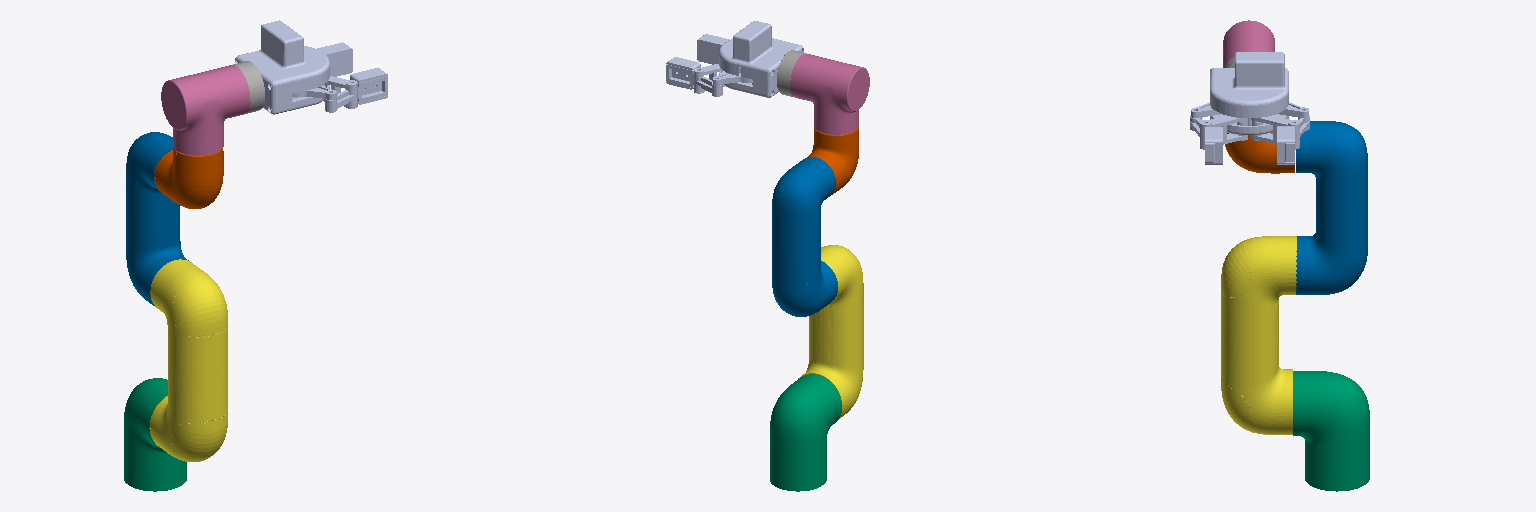
--- What the picture shows (computed from the rendered views, not written in the file) ---
The picture shows the robot from 3 angles, left to right: view 1: azimuth 30°, elevation 25°; view 2: azimuth 150°, elevation 25°; view 3: azimuth 270°, elevation 25°; orthographic projection.
Model mycobot with 25 links and 24 joints (7 revolute, 5 continuous, 12 fixed), rooted at world, posed every joint at zero.
Links seen in each view (by area): view 1: arm2_link, arm3_link, arm5_link, gripper_base_link, arm1_link, arm4_link, right_finger_link, arm5_flange, left_finger_link; view 2: arm3_link, arm1_link, arm2_link, arm5_link, gripper_base_link, arm4_link, left_finger_link, right_finger_link, arm5_flange; view 3: arm2_link, arm3_link, arm1_link, gripper_base_link, arm4_link, arm5_link, left_finger_link, right_finger_link, right_inner_knuckle_link, left_inner_knuckle_link.
Boxes of the visible links, left/top/right/bottom form: arm2_link: left=150, top=259, right=227, bottom=461; arm3_link: left=126, top=132, right=188, bottom=305; arm5_link: left=161, top=65, right=250, bottom=155; gripper_base_link: left=235, top=20, right=329, bottom=114; arm1_link: left=124, top=378, right=186, bottom=491; arm4_link: left=154, top=147, right=223, bottom=208; right_finger_link: left=325, top=68, right=387, bottom=112; arm5_flange: left=233, top=61, right=264, bottom=113; left_finger_link: left=317, top=42, right=352, bottom=76; arm3_link: left=772, top=157, right=837, bottom=316; arm1_link: left=770, top=374, right=841, bottom=491; arm2_link: left=798, top=245, right=863, bottom=419; arm5_link: left=790, top=54, right=869, bottom=134; gripper_base_link: left=719, top=21, right=803, bottom=97; arm4_link: left=808, top=128, right=858, bottom=194; left_finger_link: left=666, top=57, right=722, bottom=96; right_finger_link: left=697, top=34, right=729, bottom=64; arm5_flange: left=777, top=50, right=806, bottom=96; arm2_link: left=1221, top=236, right=1296, bottom=434; arm3_link: left=1296, top=121, right=1367, bottom=294; arm1_link: left=1293, top=371, right=1369, bottom=491; gripper_base_link: left=1210, top=52, right=1288, bottom=134; arm4_link: left=1225, top=132, right=1294, bottom=173; arm5_link: left=1223, top=20, right=1274, bottom=67; left_finger_link: left=1277, top=115, right=1309, bottom=164; right_finger_link: left=1190, top=115, right=1222, bottom=164; right_inner_knuckle_link: left=1200, top=116, right=1247, bottom=149; left_inner_knuckle_link: left=1251, top=115, right=1299, bottom=149.
Size in the robot's own frame: 0.1706 by 0.132 by 0.3796 metres.
Meshes: 15 distinct files referenced, 13 mesh visuals loaded (7 binary STL, 6 Collada DAE); not drawn: 2 (reference not matched to a file when rendering).

robot.urdf — mycobot:
<?xml version="1.0" ?>
<!-- =================================================================================== -->
<!-- |    This document was autogenerated by xacro from [local-path]/simulation_ws/src/mycobot_description/robots/mycobot_with_gripper_camera.urdf.xacro | -->
<!-- |    EDITING THIS FILE BY HAND IS NOT RECOMMENDED                                 | -->
<!-- =================================================================================== -->
<robot name="mycobot">
    <gazebo reference="body_link">
        <mu1>0.5</mu1>
        <mu2>0.5</mu2>
        <kp>100000.0</kp>
        <kd>0</kd>
        <plugin name="gazebo_ros_control">
            <robotNamespace>/</robotNamespace>
        </plugin>
    </gazebo>
    <gazebo reference="arm1_link">
        <mu1>0.5</mu1>
        <mu2>0.5</mu2>
        <kp>100000.0</kp>
        <kd>0</kd>
    </gazebo>
    <gazebo reference="arm2_link">
        <mu1>0.5</mu1>
        <mu2>0.5</mu2>
        <kp>100000.0</kp>
        <kd>0</kd>
    </gazebo>
    <gazebo reference="arm3_link">
        <mu1>0.5</mu1>
        <mu2>0.5</mu2>
        <kp>100000.0</kp>
        <kd>0</kd>
    </gazebo>
    <gazebo reference="arm4_link">
        <mu1>0.5</mu1>
        <mu2>0.5</mu2>
        <kp>100000.0</kp>
        <kd>0</kd>
    </gazebo>
    <gazebo reference="arm5_link">
        <mu1>0.5</mu1>
        <mu2>0.5</mu2>
        <kp>100000.0</kp>
        <kd>0</kd>
    </gazebo>
    <gazebo reference="arm5_flange">
        <mu1>0.5</mu1>
        <mu2>0.5</mu2>
        <kp>100000.0</kp>
        <kd>0</kd>
    </gazebo>
    <transmission name="arm_trans">
        <type>transmission_interface/SimpleTransmission</type>
        <joint name="arm1_joint">
            <hardwareInterface>hardware_interface/PositionJointInterface</hardwareInterface>
        </joint>
        <actuator name="arm_motor">
            <hardwareInterface>hardware_interface/PositionJointInterface</hardwareInterface>
            <mechanicalReduction>1</mechanicalReduction>
        </actuator>
    </transmission>
    <transmission name="arm_trans">
        <type>transmission_interface/SimpleTransmission</type>
        <joint name="arm2_joint">
            <hardwareInterface>hardware_interface/PositionJointInterface</hardwareInterface>
        </joint>
        <actuator name="arm_motor">
            <hardwareInterface>hardware_interface/PositionJointInterface</hardwareInterface>
            <mechanicalReduction>1</mechanicalReduction>
        </actuator>
    </transmission>
    <transmission name="arm_trans">
        <type>transmission_interface/SimpleTransmission</type>
        <joint name="arm3_joint">
            <hardwareInterface>hardware_interface/PositionJointInterface</hardwareInterface>
        </joint>
        <actuator name="arm_motor">
            <hardwareInterface>hardware_interface/PositionJointInterface</hardwareInterface>
            <mechanicalReduction>1</mechanicalReduction>
        </actuator>
    </transmission>
    <transmission name="arm_trans">
        <type>transmission_interface/SimpleTransmission</type>
        <joint name="arm4_joint">
            <hardwareInterface>hardware_interface/PositionJointInterface</hardwareInterface>
        </joint>
        <actuator name="arm_motor">
            <hardwareInterface>hardware_interface/PositionJointInterface</hardwareInterface>
            <mechanicalReduction>1</mechanicalReduction>
        </actuator>
    </transmission>
    <transmission name="arm_trans">
        <type>transmission_interface/SimpleTransmission</type>
        <joint name="arm5_joint">
            <hardwareInterface>hardware_interface/PositionJointInterface</hardwareInterface>
        </joint>
        <actuator name="arm_motor">
            <hardwareInterface>hardware_interface/PositionJointInterface</hardwareInterface>
            <mechanicalReduction>1</mechanicalReduction>
        </actuator>
    </transmission>
    <transmission name="arm_trans">
        <type>transmission_interface/SimpleTransmission</type>
        <joint name="arm5_flange_joint">
            <hardwareInterface>hardware_interface/PositionJointInterface</hardwareInterface>
        </joint>
        <actuator name="arm_motor">
            <hardwareInterface>hardware_interface/PositionJointInterface</hardwareInterface>
            <mechanicalReduction>1</mechanicalReduction>
        </actuator>
    </transmission>
    <gazebo>
        <plugin filename="libroboticsgroup_gazebo_mimic_joint_plugin.so" name="left_inner_base_knuckle_jointmimic_joint_plugin">
            <joint>left_outer_base_knuckle_joint</joint>
            <mimicJoint>left_inner_base_knuckle_joint</mimicJoint>
            <!-- if set to true, PID parameters from "/gazebo_ros_control/pid_gains/${mimic_joint}" are loaded -->
            <hasPID />
            <multiplier>1.0</multiplier>
            <offset>0</offset>
            <sensitiveness>0.0</sensitiveness>
            <!-- if absolute difference between setpoint and process value is below this threshold, do nothing; 0.0 = disable [rad] -->
            <maxEffort>10.0</maxEffort>
        </plugin>
    </gazebo>
    <gazebo>
        <plugin filename="libroboticsgroup_gazebo_mimic_joint_plugin.so" name="left_inner_knuckle_finger_jointmimic_joint_plugin">
            <joint>left_outer_base_knuckle_joint</joint>
            <mimicJoint>left_inner_knuckle_finger_joint</mimicJoint>
            <!-- if set to true, PID parameters from "/gazebo_ros_control/pid_gains/${mimic_joint}" are loaded -->
            <hasPID />
            <multiplier>-1.0</multiplier>
            <offset>0</offset>
            <sensitiveness>0.0</sensitiveness>
            <!-- if absolute difference between setpoint and process value is below this threshold, do nothing; 0.0 = disable [rad] -->
            <maxEffort>10.0</maxEffort>
        </plugin>
    </gazebo>
    <gazebo>
        <plugin filename="libroboticsgroup_gazebo_mimic_joint_plugin.so" name="right_inner_base_knuckle_jointmimic_joint_plugin">
            <joint>left_outer_base_knuckle_joint</joint>
            <mimicJoint>right_inner_base_knuckle_joint</mimicJoint>
            <!-- if set to true, PID parameters from "/gazebo_ros_control/pid_gains/${mimic_joint}" are loaded -->
            <hasPID />
            <multiplier>-1.0</multiplier>
            <offset>0</offset>
            <sensitiveness>0.0</sensitiveness>
            <!-- if absolute difference between setpoint and process value is below this threshold, do nothing; 0.0 = disable [rad] -->
            <maxEffort>10.0</maxEffort>
        </plugin>
    </gazebo>
    <gazebo>
        <plugin filename="libroboticsgroup_gazebo_mimic_joint_plugin.so" name="right_inner_knuckle_finger_jointmimic_joint_plugin">
            <joint>left_outer_base_knuckle_joint</joint>
            <mimicJoint>right_inner_knuckle_finger_joint</mimicJoint>
            <!-- if set to true, PID parameters from "/gazebo_ros_control/pid_gains/${mimic_joint}" are loaded -->
            <hasPID />
            <multiplier>1.0</multiplier>
            <offset>0</offset>
            <sensitiveness>0.0</sensitiveness>
            <!-- if absolute difference between setpoint and process value is below this threshold, do nothing; 0.0 = disable [rad] -->
            <maxEffort>10.0</maxEffort>
        </plugin>
    </gazebo>
    <gazebo>
        <plugin filename="libroboticsgroup_gazebo_mimic_joint_plugin.so" name="right_outer_base_knuckle_jointmimic_joint_plugin">
            <joint>left_outer_base_knuckle_joint</joint>
            <mimicJoint>right_outer_base_knuckle_joint</mimicJoint>
            <!-- if set to true, PID parameters from "/gazebo_ros_control/pid_gains/${mimic_joint}" are loaded -->
            <hasPID />
            <multiplier>-1.0</multiplier>
            <offset>0</offset>
            <sensitiveness>0.0</sensitiveness>
            <!-- if absolute difference between setpoint and process value is below this threshold, do nothing; 0.0 = disable [rad] -->
            <maxEffort>10.0</maxEffort>
        </plugin>
    </gazebo>
    <transmission name="gripper_trans">
        <type>transmission_interface/SimpleTransmission</type>
        <joint name="left_outer_base_knuckle_joint">
            <hardwareInterface>hardware_interface/PositionJointInterface</hardwareInterface>
        </joint>
        <actuator name="gripper_motor">
            <hardwareInterface>hardware_interface/PositionJointInterface</hardwareInterface>
            <mechanicalReduction>1</mechanicalReduction>
        </actuator>
    </transmission>
    <gazebo>
        <plugin filename="libgazebo_ros_control.so" name="gazebo_ros_control">
            <robotNamespace>/mycobot</robotNamespace>
        </plugin>
    </gazebo>
    <!-- Now we can start using the macros included above to define the actual Mycobot -->
    <link name="world" />
    <joint name="body_joint" type="fixed">
        <origin rpy="0 0 0" xyz="0 0 0.95" />
        <!-- transform from parent link to this joint frame -->
        <parent link="world" />
        <child link="body_link" />
    </joint>
    <!-- defining the links-->
    <link name="body_link">
        <visual>
            <geometry>
                <mesh filename="package://mycobot_description/meshes/arm/body_link.dae" />
            </geometry>
            <origin rpy=" 0 0 0" xyz="0.0 0 0 " />
        </visual>
        <collision>
            <geometry>
                <mesh filename="package://mycobot_description/meshes/arm/body_link.dae" />
            </geometry>
            <origin rpy=" 0 0 0" xyz="0.0 0 1e-5" />
        </collision>
        <inertial>
            <origin rpy="0 0 0" xyz="0.0112 0 0.03742" />
            <mass value="0.35" />
            <inertia ixx="3.82e-4" ixy="-1.628e-9" ixz="3.25e-6" iyy="5.09e-4" iyz="-1.66e-9" izz="5.38e-4" />
        </inertial>
    </link>
    <link name="arm1_link">
        <visual>
            <geometry>
                <mesh filename="package://mycobot_description/meshes/arm/arm1_link.dae" />
            </geometry>
            <origin rpy=" 0 0 -1.5708" xyz="0.0 0 -0.06096 " />
        </visual>
        <collision>
            <geometry>
                <mesh filename="package://mycobot_description/meshes/arm/arm1_link.dae" />
            </geometry>
            <origin rpy=" 0 0 -1.5708" xyz="0.0 0 -0.06096 " />
        </collision>
        <inertial>
            <origin rpy="0 0 -1.5708" xyz="0 -0.006642 -0.02617" />
            <mass value="0.075" />
            <inertia ixx="5e-5" ixy="0" ixz="0" iyy="5e-5" iyz="0" izz="3e-5" />
        </inertial>
    </link>
    <link name="arm2_link">
        <visual>
            <geometry>
                <mesh filename="package://mycobot_description/meshes/arm/arm2_link.dae" />
            </geometry>
            <origin rpy=" 0 -1.5708 0" xyz="0.0 0 0.03256 " />
        </visual>
        <collision>
            <geometry>
                <mesh filename="package://mycobot_description/meshes/arm/arm2_link.dae" />
            </geometry>
            <origin rpy=" 0 -1.5708 0" xyz="0.0 0 0.03256 " />
        </collision>
        <inertial>
            <origin rpy="0 -1.5708 0" xyz="-0.0543 0 0.058" />
            <mass value="0.15" />
            <inertia ixx="2e-4" ixy="0.0" ixz="0.0" iyy="2e-4" iyz="0.0" izz="5e-5" />
        </inertial>
    </link>
    <link name="arm3_link">
        <visual>
            <geometry>
                <mesh filename="package://mycobot_description/meshes/arm/arm3_link.dae" />
            </geometry>
            <origin rpy=" 0 -1.5708 0" xyz="0.0 0 0.03056 " />
        </visual>
        <collision>
            <geometry>
                <mesh filename="package://mycobot_description/meshes/arm/arm3_link.dae" />
            </geometry>
            <origin rpy=" 0 -1.5708 0" xyz="0.0 0 0.03056 " />
        </collision>
        <inertial>
            <origin rpy="0 -1.5708 0" xyz="-0.05 0 0.003" />
            <mass value="0.15" />
            <inertia ixx="1.8e-4" ixy="0.0" ixz="0.0" iyy="1.8e-4" iyz="0.0" izz="4e-5" />
        </inertial>
    </link>
    <link name="arm4_link">
        <visual>
            <geometry>
                <mesh filename="package://mycobot_description/meshes/arm/arm4_link.dae" />
            </geometry>
            <origin rpy=" -1.5708 0 0" xyz="0.0 0 -0.03356 " />
        </visual>
        <collision>
            <geometry>
                <mesh filename="package://mycobot_description/meshes/arm/arm4_link.dae" />
            </geometry>
            <origin rpy=" -1.5708 0 0" xyz="0.0 0 -0.03356 " />
        </collision>
        <inertial>
            <origin rpy="-1.5708 0 0" xyz="0 -0.005 -0.005" />
            <mass value="0.05" />
            <inertia ixx="1.8e-5" ixy="0.0" ixz="0.0" iyy="1.8e-5" iyz="0.0" izz="1.8e-5" />
        </inertial>
    </link>
    <link name="arm5_link">
        <visual>
            <geometry>
                <mesh filename="package://mycobot_description/meshes/arm/arm5_link.dae" />
            </geometry>
            <origin rpy=" 0 0 0" xyz="0.0 0 -0.038 " />
        </visual>
        <collision>
            <geometry>
                <mesh filename="package://mycobot_description/meshes/arm/arm5_link.dae" />
            </geometry>
            <origin rpy=" 0 0 0" xyz="0.0 0 -0.038 " />
        </collision>
        <inertial>
            <origin rpy="0 0 0" xyz="0 0.0049 -0.005" />
            <mass value="0.06" />
            <inertia ixx="1.8e-5" ixy="0.0" ixz="0.0" iyy="1.8e-5" iyz="0.0" izz="1.8e-5" />
        </inertial>
    </link>
    <link name="arm5_flange">
        <visual>
            <geometry>
                <mesh filename="package://mycobot_description/meshes/arm/arm5_flange.dae" />
            </geometry>
            <origin rpy=" 0 0 0" xyz="0.0 0 -0.012 " />
        </visual>
        <collision>
            <geometry>
                <mesh filename="package://mycobot_description/meshes/arm/arm5_flange.dae" />
            </geometry>
            <origin rpy=" 0 0 0" xyz="0.0 0 -0.012 " />
        </collision>
        <inertial>
            <origin rpy="0 0 0" xyz="0 0 -0.004" />
            <mass value="0.015" />
            <inertia ixx="1.3e-6" ixy="0.0" ixz="0.0" iyy="1.3e-6" iyz="0.0" izz="2e-6" />
        </inertial>
    </link>
    <!-- defining the joints -->
    <joint name="arm1_joint" type="revolute">
        <axis xyz="0 0 1" />
        <limit effort="1000.0" lower="-2.88" upper="2.88" velocity="0.2" />
        <dynamics damping="0.01" friction="0.01" />
        <parent link="body_link" />
        <child link="arm1_link" />
        <origin rpy="0 0 0" xyz="0 0 0.13156" />
    </joint>
    <joint name="arm2_joint" type="revolute">
        <axis xyz="0 0 1" />
        <limit effort="1000.0" lower="-2.88" upper="2.88" velocity="0.2" />
        <dynamics damping="0.01" friction="0.01" />
        <parent link="arm1_link" />
        <child link="arm2_link" />
        <origin rpy="0 1.5708 -1.5708" xyz="0 0 0" />
    </joint>
    <joint name="arm3_joint" type="revolute">
        <axis xyz=" 0 0 1" />
        <limit effort="1000.0" lower="-2.88" upper="2.88" velocity="0.2" />
        <dynamics damping="0.01" friction="0.01" />
        <parent link="arm2_link" />
        <child link="arm3_link" />
        <origin rpy="0 0 0" xyz="  -0.1104 0 0   " />
    </joint>
    <joint name="arm4_joint" type="revolute">
        <axis xyz=" 0 0 1" />
        <limit effort="1000.0" lower="-2.88" upper="2.88" velocity="0.2" />
        <dynamics damping="0.01" friction="0.01" />
        <parent link="arm3_link" />
        <child link="arm4_link" />
        <origin rpy="0 0 -1.5708" xyz="-0.096 0 0.06462" />
    </joint>
    <joint name="arm5_joint" type="revolute">
        <axis xyz="0 0 1" />
        <limit effort="1000.0" lower="-2.88" upper="2.88" velocity="0.2" />
        <dynamics damping="0.01" friction="0.01" />
        <parent link="arm4_link" />
        <child link="arm5_link" />
        <origin rpy="1.5708 -1.5708 0" xyz="0 -0.07318 0" />
    </joint>
    <joint name="arm5_flange_joint" type="revolute">
        <axis xyz="0 0 1" />
        <limit effort="1000.0" lower="-3.05" upper="3.05" velocity="0.2" />
        <dynamics damping="0.01" friction="0.01" />
        <parent link="arm5_link" />
        <child link="arm5_flange" />
        <origin rpy="-1.5708 0 0" xyz="0 0.0456 0" />
    </joint>
    <joint name="gripper_base_joint" type="fixed">
        <origin rpy="0 0 0" xyz="0 0.01385 0.03432" />
        <!-- transform from parent link to this joint frame -->
        <parent link="arm5_flange" />
        <child link="gripper_base_link" />
    </joint>
    <!-- defining the base link -->
    <link name="gripper_base_link">
        <inertial>
            <origin rpy="1.5708 0 0" xyz="0 -0.018162 0" />
            <mass value="0.03237" />
            <inertia ixx="7.9803E-06" ixy="-3.7162E-08" ixz="4.3435E-07" iyy="1.0337E-05" iyz="3.3485E-07" izz="1.5321E-05" />
        </inertial>
        <visual>
            <origin rpy="0 0 0" xyz="0 0 0" />
            <geometry>
                <mesh filename="package://mycobot_description/meshes/gripper/base_link.STL" />
            </geometry>
            <material name="">
                <color rgba="0.79216 0.81961 0.93333 1" />
            </material>
        </visual>
        <collision>
            <origin rpy="0 0 0" xyz="0 0 0" />
            <geometry>
                <mesh filename="package://mycobot_description/meshes/gripper/base_link.STL" />
            </geometry>
        </collision>
    </link>
    <!-- defining the left_inner_knuckle_link -->
    <link name="left_inner_knuckle_link">
        <inertial>
            <origin rpy="0 0 0" xyz="-0.013688 0.0077832 0.01" />
            <mass value="0.0027253" />
            <inertia ixx="2.3883E-07" ixy="1.3724E-07" ixz="5.0465E-14" iyy="4.0216E-07" iyz="-1.3375E-14" izz="3.5516E-07" />
        </inertial>
        <visual>
            <origin rpy="0 0 0" xyz="0 0 0" />
            <geometry>
                <mesh filename="package://mycobot_description/meshes/gripper/left_inner_knuckle_link.STL" />
            </geometry>
            <material name="">
                <color rgba="0.79216 0.81961 0.93333 1" />
            </material>
        </visual>
        <collision>
            <origin rpy="0 0 0" xyz="0 0 0" />
            <geometry>
                <mesh filename="package://mycobot_description/meshes/gripper/left_inner_knuckle_link.STL" />
            </geometry>
        </collision>
    </link>
    <!-- defining the left_inner_base_knuckle_joint -->
    <joint name="left_inner_base_knuckle_joint" type="continuous">
        <origin rpy="1.5708 0 0" xyz="-0.006 0.0062 0.01931" />
        <parent link="gripper_base_link" />
        <child link="left_inner_knuckle_link" />
        <axis xyz="0 0 1" />
        <mimic joint="left_outer_base_knuckle_joint" multiplier="1" offset="0" />
    </joint>
    <!-- defining the left_finger_link -->
    <link name="left_finger_link">
        <inertial>
            <origin rpy="0 0 0" xyz="-0.011258 -0.00023581 0.005" />
            <mass value="0.0069464" />
            <inertia ixx="3.0023E-07" ixy="1.5317E-07" ixz="2.0426E-16" iyy="1.5826E-06" iyz="-6.683E-17" izz="1.4568E-06" />
        </inertial>
        <visual>
            <origin rpy="0 0 0" xyz="0 0 0" />
            <geometry>
                <mesh filename="package://mycobot_description/meshes/gripper/left_finger_link.STL" />
            </geometry>
            <material name="">
                <color rgba="0.79216 0.81961 0.93333 1" />
            </material>
        </visual>
        <collision>
            <origin rpy="0 0 0" xyz="0 0 0" />
            <geometry>
                <mesh filename="package://mycobot_description/meshes/gripper/left_finger_link.STL" />
            </geometry>
        </collision>
    </link>
    <!-- define the left_inner_knuckle_finger_joint -->
    <joint name="left_inner_knuckle_finger_joint" type="continuous">
        <origin rpy="3.1416 0 -1.8908" xyz="-0.026961 0.01533 0.015" />
        <parent link="left_inner_knuckle_link" />
        <child link="left_finger_link" />
        <axis xyz="0 0 -1" />
        <mimic joint="left_outer_base_knuckle_joint" multiplier="-1" offset="0" />
    </joint>
    <!-- define the left_outer_knuckle_link -->
    <link name="left_outer_knuckle_link">
        <inertial>
            <origin rpy="0 0 0" xyz="0.0024724 0.0012069 -0.0061758" />
            <mass value="0.0031761" />
            <inertia ixx="5.5821E-07" ixy="-8.1055E-11" ixz="4.4412E-10" iyy="4.2052E-07" iyz="7.9939E-08" izz="1.5004E-07" />
        </inertial>
        <visual>
            <origin rpy="0 0 0" xyz="0 0 0" />
            <geometry>
                <mesh filename="package://mycobot_description/meshes/gripper/left_outer_knuckle_link.STL" />
            </geometry>
            <material name="">
                <color rgba="0.79216 0.81961 0.93333 1" />
            </material>
        </visual>
        <collision>
            <origin rpy="0 0 0" xyz="0 0 0" />
            <geometry>
                <mesh filename="package://mycobot_description/meshes/gripper/left_outer_knuckle_link.STL" />
            </geometry>
        </collision>
    </link>
    <!-- define the left_outer_base_knuckle_joint -->
    <joint name="left_outer_base_knuckle_joint" type="revolute">
        <origin rpy="1.839 0 1.5708" xyz="-0.01325 -0.0138 -0.00252" />
        <parent link="gripper_base_link" />
        <child link="left_outer_knuckle_link" />
        <axis xyz="-1 0 0" />
        <limit effort="10" lower="-0.75" upper="0.2" velocity="0.05" />
    </joint>
    <!-- define the right_inner_knuckle_link -->
    <link name="right_inner_knuckle_link">
        <inertial>
            <origin rpy="0 0 0" xyz="0.013579 0.007972 0.0099999" />
            <mass value="0.0027253" />
            <inertia ixx="2.4267E-07" ixy="-1.3945E-07" ixz="5.0275E-14" iyy="3.9832E-07" iyz="1.4073E-14" izz="3.5516E-07" />
        </inertial>
        <visual>
            <origin rpy="0 0 0" xyz="0 0 0" />
            <geometry>
                <mesh filename="package://mycobot_description/meshes/gripper/right_inner_knuckle_link.STL" />
            </geometry>
            <material name="">
                <color rgba="0.79216 0.81961 0.93333 1" />
            </material>
        </visual>
        <collision>
            <origin rpy="0 0 0" xyz="0 0 0" />
            <geometry>
                <mesh filename="package://mycobot_description/meshes/gripper/right_inner_knuckle_link.STL" />
            </geometry>
        </collision>
    </link>
    <!-- define right_inner_base_knuckle_joint -->
    <joint name="right_inner_base_knuckle_joint" type="continuous">
        <origin rpy="1.5708 0 0" xyz="0.005 0.0062 0.01931" />
        <parent link="gripper_base_link" />
        <child link="right_inner_knuckle_link" />
        <axis xyz="0 0 1" />
        <mimic joint="left_outer_base_knuckle_joint" multiplier="-1" offset="0" />
    </joint>
    <!-- define right_finger_link -->
    <link name="right_finger_link">
        <inertial>
            <origin rpy="0 0 0" xyz="-0.011258 -0.00023581 0.005" />
            <mass value="0.0069464" />
            <inertia ixx="3.0023E-07" ixy="1.5317E-07" ixz="2.0426E-16" iyy="1.5826E-06" iyz="-6.683E-17" izz="1.4568E-06" />
        </inertial>
        <visual>
            <origin rpy="0 0 0" xyz="0 0 0" />
            <geometry>
                <mesh filename="package://mycobot_description/meshes/gripper/right_finger_link.STL" />
            </geometry>
            <material name="">
                <color rgba="0.79216 0.81961 0.93333 1" />
            </material>
        </visual>
        <collision>
            <origin rpy="0 0 0" xyz="0 0 0" />
            <geometry>
                <mesh filename="package://mycobot_description/meshes/gripper/right_finger_link.STL" />
            </geometry>
        </collision>
    </link>
    <!-- define right_inner_knuckle_finger_joint -->
    <joint name="right_inner_knuckle_finger_joint" type="continuous">
        <origin rpy="0 0 -1.2508" xyz="0.026746 0.015702 0.005" />
        <parent link="right_inner_knuckle_link" />
        <child link="right_finger_link" />
        <axis xyz="0 0 1" />
        <mimic joint="left_outer_base_knuckle_joint" multiplier="1" offset="0" />
    </joint>
    <!-- define right_outer_knuckle_link -->
    <link name="right_outer_knuckle_link">
        <inertial>
            <origin rpy="0 0 0" xyz="0.0026671 -0.003562 0.0056204" />
            <mass value="0.0030687" />
            <inertia ixx="5.4543E-07" ixy="-1.7697E-09" ixz="2.7991E-09" iyy="3.3169E-07" iyz="1.4798E-07" izz="2.2484E-07" />
        </inertial>
        <visual>
            <origin rpy="0 0 0" xyz="0 0 0" />
            <geometry>
                <mesh filename="package://mycobot_description/meshes/gripper/right_outer_knuckle_link.STL" />
            </geometry>
            <material name="">
                <color rgba="0.79216 0.81961 0.93333 1" />
            </material>
        </visual>
        <collision>
            <origin rpy="0 0 0" xyz="0 0 0" />
            <geometry>
                <mesh filename="package://mycobot_description/meshes/gripper/right_outer_knuckle_link.STL" />
            </geometry>
        </collision>
    </link>
    <!-- define right_outer_base_knuckle_joint -->
    <joint name="right_outer_base_knuckle_joint" type="continuous">
        <origin rpy="-1.6401 0 -1.5708" xyz="0.01225 -0.0088 -0.00252" />
        <parent link="gripper_base_link" />
        <child link="right_outer_knuckle_link" />
        <axis xyz="1 0 0" />
        <mimic joint="left_outer_base_knuckle_joint" multiplier="-1" offset="0" />
    </joint>
    <material name="d435_camera_aluminum">
        <color rgba="0.5 0.5 0.5 1" />
    </material>
    <!-- camera body, with origin at bottom screw mount -->
    <joint name="d435_camera_joint" type="fixed">
        <origin rpy="0 1.5707963267948966 0" xyz="0 0.5 1.5" />
        <parent link="world" />
        <child link="d435_camera_bottom_screw_frame" />
    </joint>
    <link name="d435_camera_bottom_screw_frame" />
    <joint name="d435_camera_link_joint" type="fixed">
        <origin rpy="0 0 0" xyz="0 0.0175 0.0125" />
        <parent link="d435_camera_bottom_screw_frame" />
        <child link="d435_camera_link" />
    </joint>
    <link name="d435_camera_link">
        <visual>
            <!--<origin xyz="${d435_cam_mount_from_center_offset} ${-d435_cam_depth_py} 0" rpy="${M_PI/2} 0 ${M_PI/2}"/>-->
            <origin rpy="1.5707963267948966 0 1.5707963267948966" xyz="0 -0.0175 0" />
            <geometry>
                <!-- <box size="${d435_cam_width} ${d435_cam_height} ${d435_cam_depth}"/> -->
                <mesh filename="package://mycobot_description/meshes/camera/d435.dae" />
            </geometry>
            <material name="d435_camera_aluminum" />
        </visual>
        <collision>
            <origin rpy="0 0 0" xyz="0 -0.0175 0" />
            <geometry>
                <box size="0.02505 0.09 0.025" />
            </geometry>
        </collision>
        <inertial>
            <!-- The following are not reliable values, and should not be used for modeling -->
            <mass value="0.564" />
            <origin xyz="0 0 0" rpy="0 0 0" />
            <inertia ixx="0.003881243" ixy="0.0" ixz="0.0" iyy="0.000498940" iyz="0.0" izz="0.003879257" />
        </inertial>
    </link>
    <!-- camera depth joints and links -->
    <joint name="d435_camera_depth_joint" type="fixed">
        <origin rpy="0 0 0" xyz="0 0 0" />
        <parent link="d435_camera_link" />
        <child link="d435_camera_depth_frame" />
    </joint>
    <link name="d435_camera_depth_frame" />
    <joint name="d435_camera_depth_optical_joint" type="fixed">
        <origin rpy="-1.5707963267948966 0 -1.5707963267948966" xyz="0 0 0" />
        <parent link="d435_camera_depth_frame" />
        <child link="d435_camera_depth_optical_frame" />
    </joint>
    <link name="d435_camera_depth_optical_frame" />
    <!-- camera left IR joints and links -->
    <joint name="d435_camera_left_ir_joint" type="fixed">
        <origin rpy="0 0 0" xyz="0 0.0 0" />
        <parent link="d435_camera_depth_frame" />
        <child link="d435_camera_left_ir_frame" />
    </joint>
    <link name="d435_camera_left_ir_frame" />
    <joint name="d435_camera_left_ir_optical_joint" type="fixed">
        <origin rpy="-1.5707963267948966 0 -1.5707963267948966" xyz="0 0 0" />
        <parent link="d435_camera_left_ir_frame" />
        <child link="d435_camera_left_ir_optical_frame" />
    </joint>
    <link name="d435_camera_left_ir_optical_frame" />
    <!-- camera right IR joints and links -->
    <joint name="d435_camera_right_ir_joint" type="fixed">
        <origin rpy="0 0 0" xyz="0 -0.05 0" />
        <parent link="d435_camera_depth_frame" />
        <child link="d435_camera_right_ir_frame" />
    </joint>
    <link name="d435_camera_right_ir_frame" />
    <joint name="d435_camera_right_ir_optical_joint" type="fixed">
        <origin rpy="-1.5707963267948966 0 -1.5707963267948966" xyz="0 0 0" />
        <parent link="d435_camera_right_ir_frame" />
        <child link="d435_camera_right_ir_optical_frame" />
    </joint>
    <link name="d435_camera_right_ir_optical_frame" />
    <!-- camera color joints and links -->
    <joint name="d435_camera_color_joint" type="fixed">
        <origin rpy="0 0 0" xyz="0 0.015 0" />
        <parent link="d435_camera_depth_frame" />
        <child link="d435_camera_color_frame" />
    </joint>
    <link name="d435_camera_color_frame" />
    <joint name="d435_camera_color_optical_joint" type="fixed">
        <origin rpy="-1.5707963267948966 0 -1.5707963267948966" xyz="0 0 0" />
        <parent link="d435_camera_color_frame" />
        <child link="d435_camera_color_optical_frame" />
    </joint>
    <link name="d435_camera_color_optical_frame" />
    <gazebo reference="d435_camera_link">
        <self_collide>0</self_collide>
        <enable_wind>0</enable_wind>
        <kinematic>0</kinematic>
        <gravity>1</gravity>
        <!--<mu>1</mu>-->
        <mu2>1</mu2>
        <fdir1>0 0 0</fdir1>
        <!--<slip1>0</slip1>
      <slip2>0</slip2>-->
        <kp>1e+13</kp>
        <kd>1</kd>
        <!--<max_vel>0.01</max_vel>
      <min_depth>0</min_depth>-->
        <sensor name="d435_cameracolor" type="camera">
            <camera name="d435_camera">
                <horizontal_fov>1.2112585008840648</horizontal_fov>
                <image>
                    <width>640</width>
                    <height>480</height>
                    <format>RGB_INT8</format>
                </image>
                <clip>
                    <near>0.1</near>
                    <far>100</far>
                </clip>
                <noise>
                    <type>gaussian</type>
                    <mean>0.0</mean>
                    <stddev>0.007</stddev>
                </noise>
            </camera>
            <always_on>1</always_on>
            <update_rate>30</update_rate>
            <visualize>1</visualize>
        </sensor>
        <sensor name="d435_cameraired1" type="camera">
            <camera name="d435_camera">
                <horizontal_fov>1.4870205226991688</horizontal_fov>
                <image>
                    <width>1280</width>
                    <height>720</height>
                    <format>L_INT8</format>
                </image>
                <clip>
                    <near>0.1</near>
                    <far>100</far>
                </clip>
                <noise>
                    <type>gaussian</type>
                    <mean>0.0</mean>
                    <stddev>0.05</stddev>
                </noise>
            </camera>
            <always_on>1</always_on>
            <update_rate>90</update_rate>
            <visualize>0</visualize>
        </sensor>
        <sensor name="d435_cameraired2" type="camera">
            <camera name="d435_camera">
                <horizontal_fov>1.4870205226991688</horizontal_fov>
                <image>
                    <width>1280</width>
                    <height>720</height>
                    <format>L_INT8</format>
                </image>
                <clip>
                    <near>0.1</near>
                    <far>100</far>
                </clip>
                <noise>
                    <type>gaussian</type>
                    <mean>0.0</mean>
                    <stddev>0.05</stddev>
                </noise>
            </camera>
            <always_on>1</always_on>
            <update_rate>90</update_rate>
            <visualize>0</visualize>
        </sensor>
        <sensor name="d435_cameradepth" type="depth">
            <camera name="d435_camera">
                <horizontal_fov>1.4870205226991688</horizontal_fov>
                <image>
                    <width>1280</width>
                    <height>720</height>
                </image>
                <clip>
                    <near>0.1</near>
                    <far>100</far>
                </clip>
                <noise>
                    <type>gaussian</type>
                    <mean>0.0</mean>
                    <stddev>0.100</stddev>
                </noise>
            </camera>
            <always_on>1</always_on>
            <update_rate>90</update_rate>
            <visualize>0</visualize>
        </sensor>
    </gazebo>
    <gazebo>
        <plugin filename="librealsense_gazebo_plugin.so" name="d435_camera">
            <prefix>d435_camera</prefix>
            <depthUpdateRate>30.0</depthUpdateRate>
            <colorUpdateRate>30.0</colorUpdateRate>
            <infraredUpdateRate>30.0</infraredUpdateRate>
            <depthTopicName>depth/image_raw</depthTopicName>
            <depthCameraInfoTopicName>depth/camera_info</depthCameraInfoTopicName>
            <colorTopicName>color/image_raw</colorTopicName>
            <colorCameraInfoTopicName>color/camera_info</colorCameraInfoTopicName>
            <infrared1TopicName>infra1/image_raw</infrared1TopicName>
            <infrared1CameraInfoTopicName>infra1/camera_info</infrared1CameraInfoTopicName>
            <infrared2TopicName>infra2/image_raw</infrared2TopicName>
            <infrared2CameraInfoTopicName>infra2/camera_info</infrared2CameraInfoTopicName>
            <colorOpticalframeName>d435_camera_color_optical_frame</colorOpticalframeName>
            <depthOpticalframeName>d435_camera_depth_optical_frame</depthOpticalframeName>
            <infrared1OpticalframeName>d435_camera_left_ir_optical_frame</infrared1OpticalframeName>
            <infrared2OpticalframeName>d435_camera_right_ir_optical_frame</infrared2OpticalframeName>
            <rangeMinDepth>0.2</rangeMinDepth>
            <rangeMaxDepth>10.0</rangeMaxDepth>
            <pointCloud>True</pointCloud>
            <pointCloudTopicName>depth/color/points</pointCloudTopicName>
            <pointCloudCutoff>0.25</pointCloudCutoff>
            <pointCloudCutoffMax>9.0</pointCloudCutoffMax>
        </plugin>
    </gazebo>
    <transmission name="trans_left_inner_base_knuckle_joint">
        <type>transmission_interface/SimpleTransmission</type>
        <joint name="left_inner_base_knuckle_joint">
            <hardwareInterface>hardware_interface/EffortJointInterface</hardwareInterface>
        </joint>
        <actuator name="left_inner_base_knuckle_joint_motor">
            <hardwareInterface>hardware_interface/EffortJointInterface</hardwareInterface>
            <mechanicalReduction>1</mechanicalReduction>
        </actuator>
    </transmission>
    <transmission name="trans_left_inner_knuckle_finger_joint">
        <type>transmission_interface/SimpleTransmission</type>
        <joint name="left_inner_knuckle_finger_joint">
            <hardwareInterface>hardware_interface/EffortJointInterface</hardwareInterface>
        </joint>
        <actuator name="left_inner_knuckle_finger_joint_motor">
            <hardwareInterface>hardware_interface/EffortJointInterface</hardwareInterface>
            <mechanicalReduction>1</mechanicalReduction>
        </actuator>
    </transmission>
    <transmission name="trans_right_inner_base_knuckle_joint">
        <type>transmission_interface/SimpleTransmission</type>
        <joint name="right_inner_base_knuckle_joint">
            <hardwareInterface>hardware_interface/EffortJointInterface</hardwareInterface>
        </joint>
        <actuator name="right_inner_base_knuckle_joint_motor">
            <hardwareInterface>hardware_interface/EffortJointInterface</hardwareInterface>
            <mechanicalReduction>1</mechanicalReduction>
        </actuator>
    </transmission>
    <transmission name="trans_right_inner_knuckle_finger_joint">
        <type>transmission_interface/SimpleTransmission</type>
        <joint name="right_inner_knuckle_finger_joint">
            <hardwareInterface>hardware_interface/EffortJointInterface</hardwareInterface>
        </joint>
        <actuator name="right_inner_knuckle_finger_joint_motor">
            <hardwareInterface>hardware_interface/EffortJointInterface</hardwareInterface>
            <mechanicalReduction>1</mechanicalReduction>
        </actuator>
    </transmission>
    <transmission name="trans_right_outer_base_knuckle_joint">
        <type>transmission_interface/SimpleTransmission</type>
        <joint name="right_outer_base_knuckle_joint">
            <hardwareInterface>hardware_interface/EffortJointInterface</hardwareInterface>
        </joint>
        <actuator name="right_outer_base_knuckle_joint_motor">
            <hardwareInterface>hardware_interface/EffortJointInterface</hardwareInterface>
            <mechanicalReduction>1</mechanicalReduction>
        </actuator>
    </transmission>
</robot>
